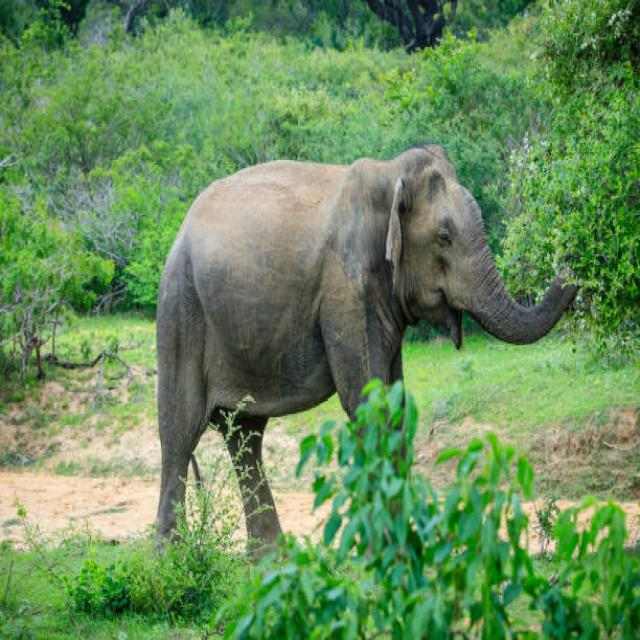Elephant: (141, 131, 557, 551)
